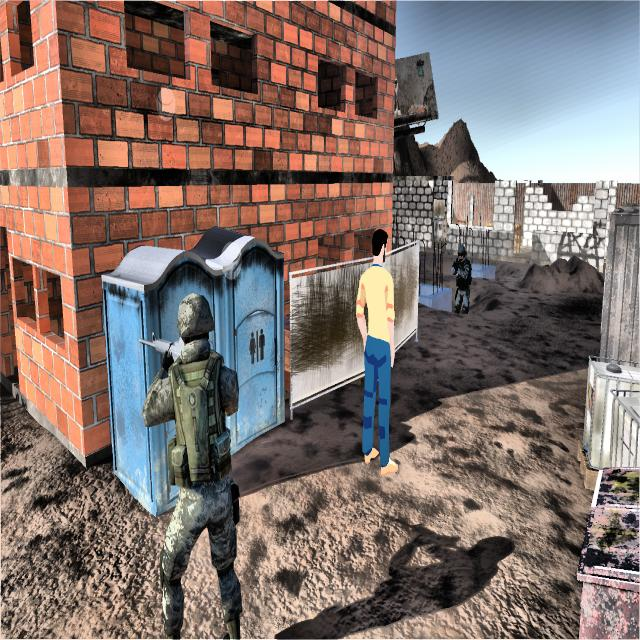bad: (136, 279, 250, 640), (450, 236, 474, 314)
good: (352, 220, 410, 484)
